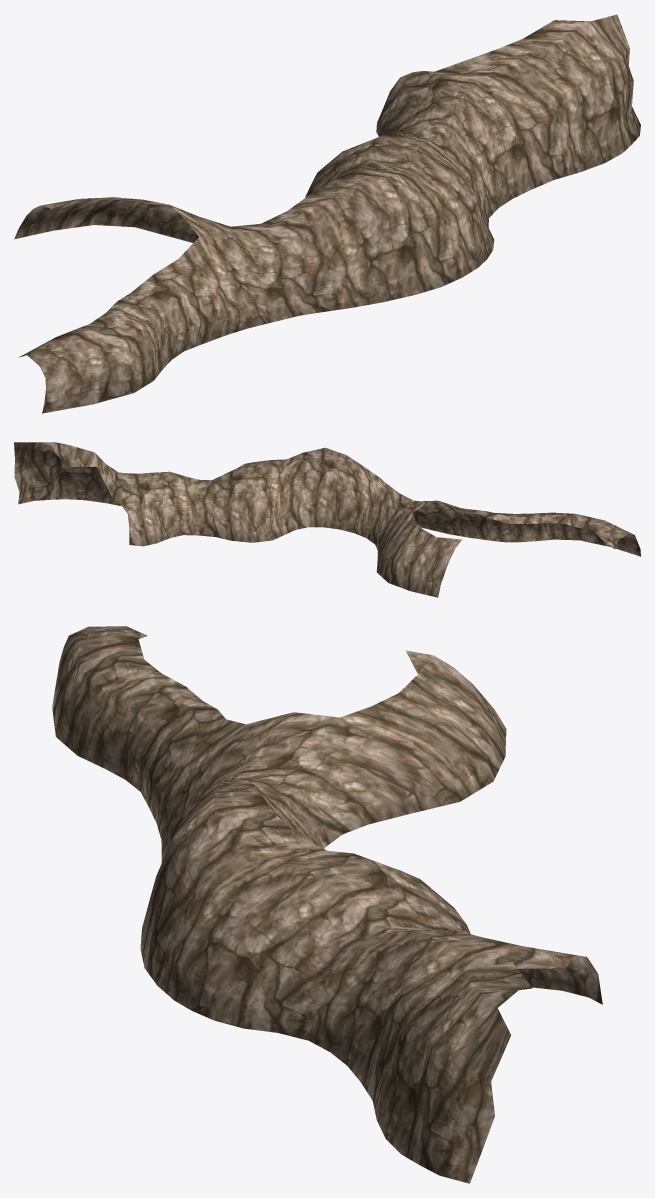
The model's file is EKH_GROTTO_PS_GR_OBJECT26.fbx.
3 views of the same model, one above another, from view 1: azimuth 30°, elevation 25°; view 2: azimuth 150°, elevation 25°; view 3: azimuth 270°, elevation 25° (orthographic). The views are drawn at different scales.
Visible parts, largest first — view 1: EKH_GROTTO_PS_GR_OBJECT26; view 2: EKH_GROTTO_PS_GR_OBJECT26; view 3: EKH_GROTTO_PS_GR_OBJECT26.
Part boxes in pixels (<box>): EKH_GROTTO_PS_GR_OBJECT26: <box>14,14,640,413</box>; EKH_GROTTO_PS_GR_OBJECT26: <box>14,442,640,597</box>; EKH_GROTTO_PS_GR_OBJECT26: <box>52,626,602,1183</box>.
Bounding box in the file's own units: 425559 × 58752 × 194834.
1 material, 1 textured.
